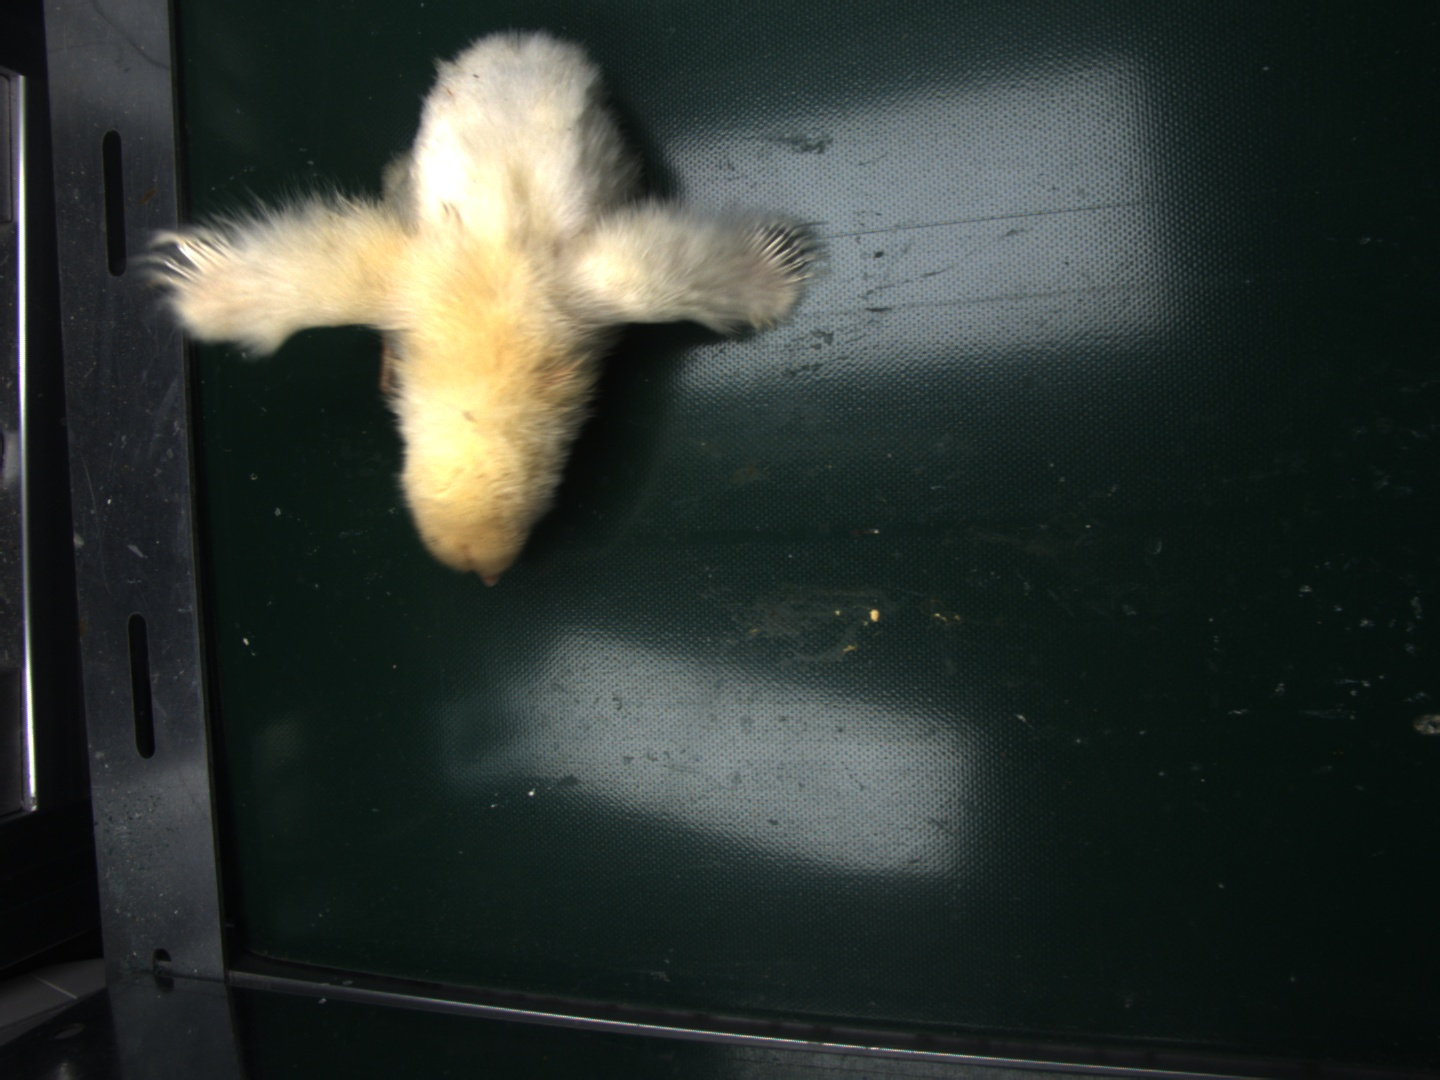male: (166, 233, 238, 292), (748, 226, 810, 282)
